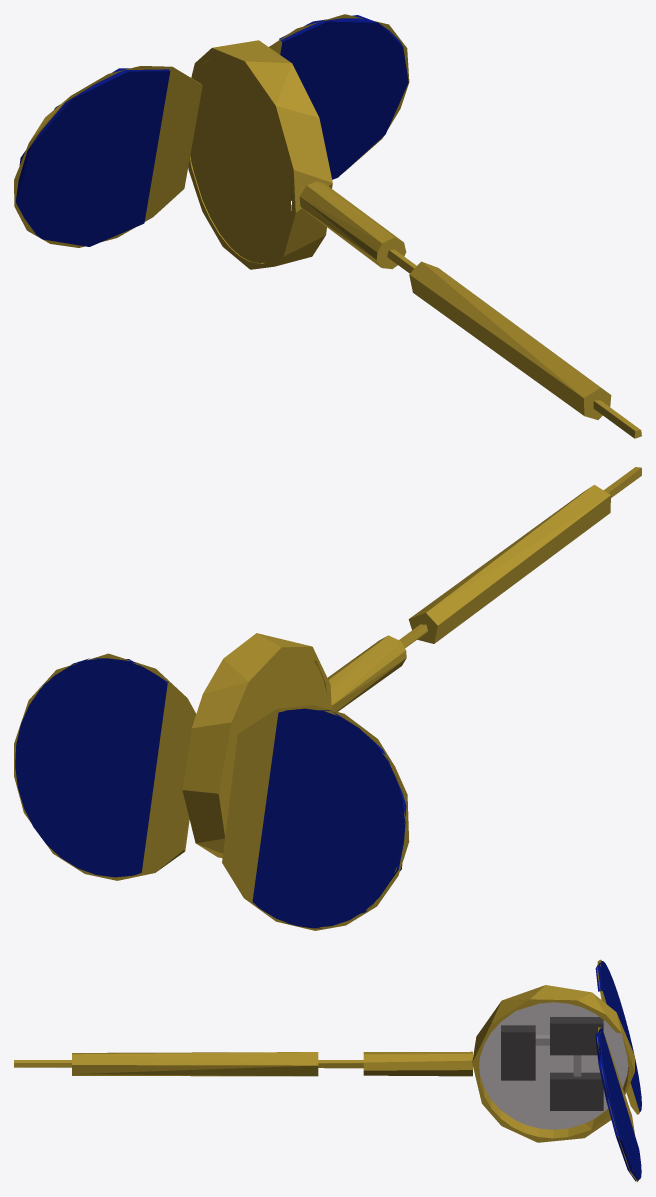
Rendered from orbcomm1_med.gltf.
The picture shows the model from 3 angles, top to bottom: view 1: azimuth 30°, elevation 25°; view 2: azimuth 150°, elevation 25°; view 3: azimuth 270°, elevation 25°; orthographic projection. The views are drawn at different scales.
Parts seen in each view (by area): view 1: Cylinder.005, Cylinder.009, Cylinder.001, Cylinder.007, Cylinder.006, Cylinder.008; view 2: Cylinder.002, Cylinder.000, Cylinder.009, Cylinder.007, Cylinder.005, Cylinder.001, Cylinder.006, Cylinder.008; view 3: Cylinder.009, Cylinder.007, Cylinder.006, Cube.035, Cube.036, Cube.034, Cylinder.000, Cylinder.002, Cylinder.001, Cylinder.008, Cylinder.005.
Boxes of the visible parts, x1=… form: Cylinder.005: x1=14, y1=66, x2=202, y2=247; Cylinder.009: x1=188, y1=40, x2=332, y2=269; Cylinder.001: x1=269, y1=14, x2=409, y2=179; Cylinder.007: x1=409, y1=261, x2=611, y2=419; Cylinder.006: x1=299, y1=181, x2=406, y2=269; Cylinder.008: x1=387, y1=249, x2=641, y2=438; Cylinder.002: x1=252, y1=708, x2=404, y2=927; Cylinder.000: x1=15, y1=658, x2=167, y2=877; Cylinder.009: x1=182, y1=633, x2=331, y2=858; Cylinder.007: x1=408, y1=485, x2=610, y2=643; Cylinder.005: x1=222, y1=705, x2=409, y2=930; Cylinder.001: x1=14, y1=653, x2=196, y2=880; Cylinder.006: x1=327, y1=635, x2=406, y2=711; Cylinder.008: x1=399, y1=467, x2=641, y2=648; Cylinder.009: x1=472, y1=985, x2=634, y2=1142; Cylinder.007: x1=72, y1=1052, x2=318, y2=1076; Cylinder.006: x1=363, y1=1051, x2=472, y2=1076; Cube.035: x1=550, y1=1072, x2=603, y2=1110; Cube.036: x1=501, y1=1025, x2=535, y2=1080; Cube.034: x1=550, y1=1017, x2=603, y2=1055; Cylinder.000: x1=600, y1=1028, x2=641, y2=1179; Cylinder.002: x1=600, y1=961, x2=641, y2=1111; Cylinder.001: x1=595, y1=1027, x2=639, y2=1181; Cylinder.008: x1=14, y1=1060, x2=363, y2=1068; Cylinder.005: x1=595, y1=959, x2=639, y2=1114.
Size of the model in its own units: 4.03 by 2.06 by 7.82.
